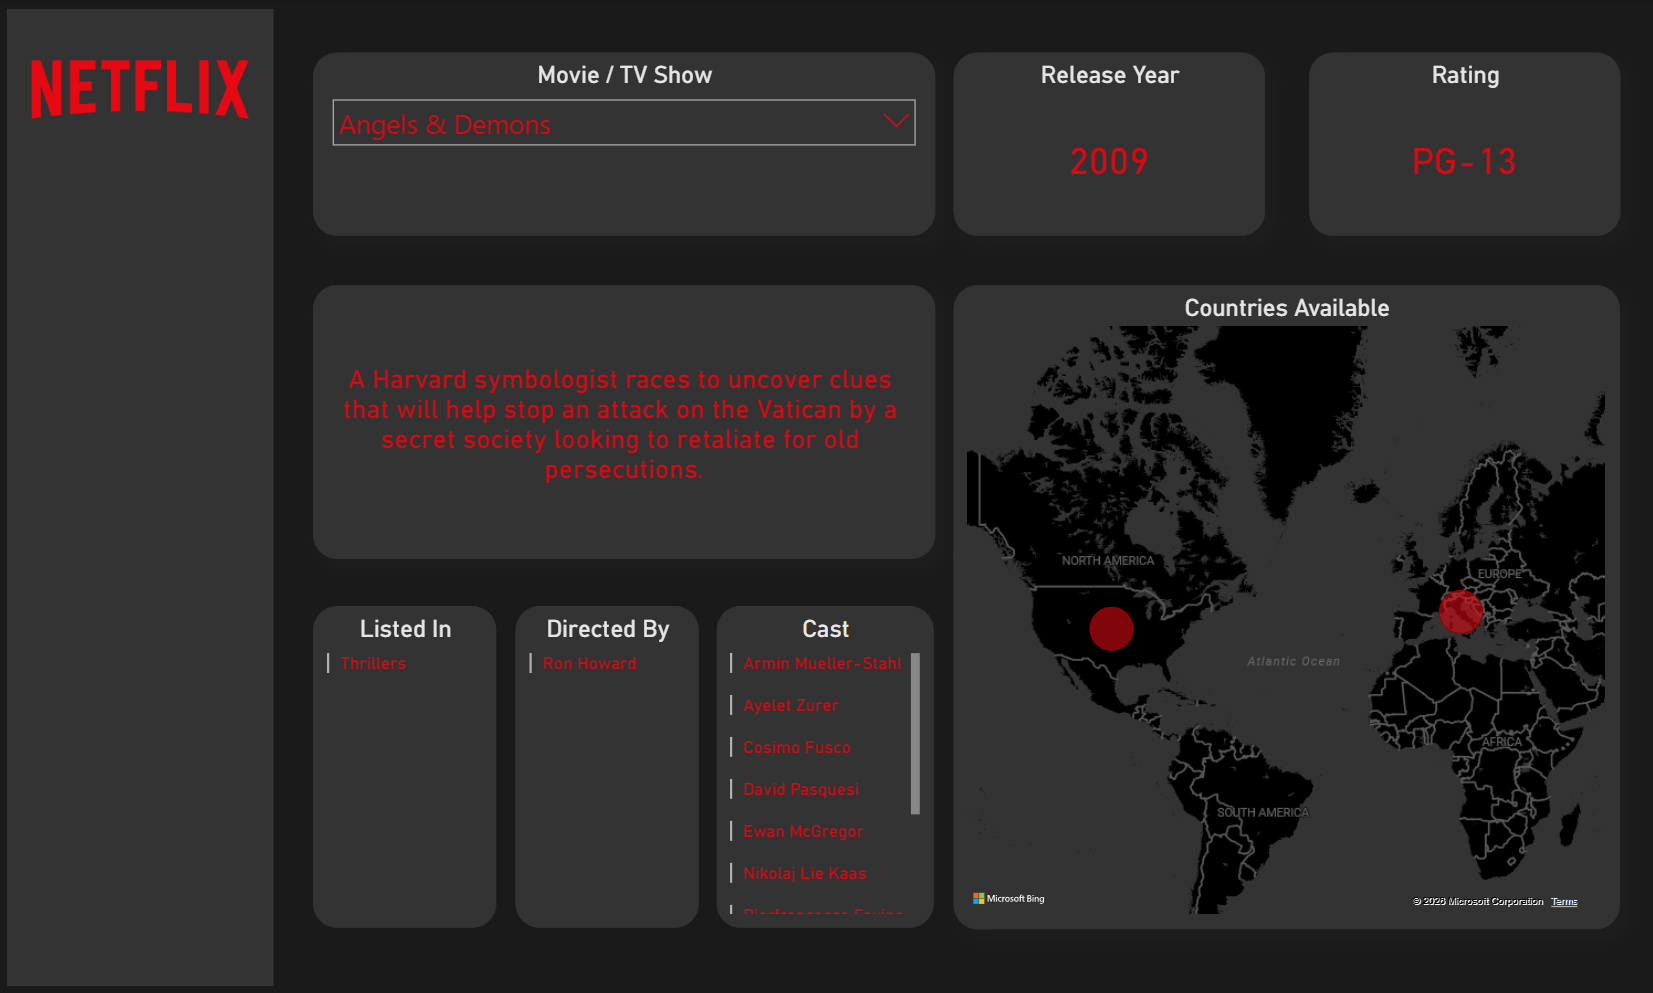

Layout of this report page (visuals, bound fields, positions):
{"tool":"powerbi","page":{"name":"Single Title View","canvas":[1500,900],"ordinal":1},"visuals":[{"type":"shape","box":[8,8,241.6,884.5],"z":0},{"type":"multiRowCard","title":"Cast","fields":{"Values":["netflix_data netflix_cast.cast"]},"box":[651.1,549.2,196.7,291.6],"z":1000},{"type":"map","title":"Countries Available","fields":{"Category":["netflix_data countries_released.country"],"Size":["CountNonNull(netflix_data countries_released.show_id)"]},"box":[865.3,257.6,603,583.1],"z":2000},{"type":"image","box":[8,8,241.6,139.1],"z":3000},{"type":"card","title":"Rating","fields":{"Values":["Min(netflix_data netflix_titles.rating)"]},"box":[1186.2,48,282.2,166.3],"z":4000},{"type":"card","title":"Release Year","fields":{"Values":["Min(netflix_data netflix_titles.release_year)"]},"box":[865.3,48,282.2,166.3],"z":5000},{"type":"slicer","title":"Movie / TV Show","fields":{"Values":["netflix_data netflix_titles.title"]},"box":[284.5,48,563.2,166.3],"z":6000},{"type":"multiRowCard","title":"Directed By","fields":{"Values":["netflix_data netflix_directors.director"]},"box":[468.4,549.2,166.3,291.6],"z":7001},{"type":"multiRowCard","title":"Listed In","fields":{"Values":["netflix_data netflix_listed_in.category"]},"box":[284.5,549.2,166.3,291.6],"z":7002},{"type":"card","title":"Release Year","fields":{"Values":["Min(netflix_data description.description)"]},"box":[284.5,257.6,563.2,248.2],"z":7003}]}

Visuals, with their boxes in screenshot pixels (x1, y1, x2, y2), scaled from the page's 1500x900 canvas onto the 1653x993 screenshot:
shape: 9,9,275,985
"Cast" multiRowCard: 718,606,934,928
"Countries Available" map: 954,284,1618,928
image: 9,9,275,162
"Rating" card: 1307,53,1618,236
"Release Year" card: 954,53,1265,236
"Movie / TV Show" slicer: 314,53,934,236
"Directed By" multiRowCard: 516,606,699,928
"Listed In" multiRowCard: 314,606,497,928
"Release Year" card: 314,284,934,558
